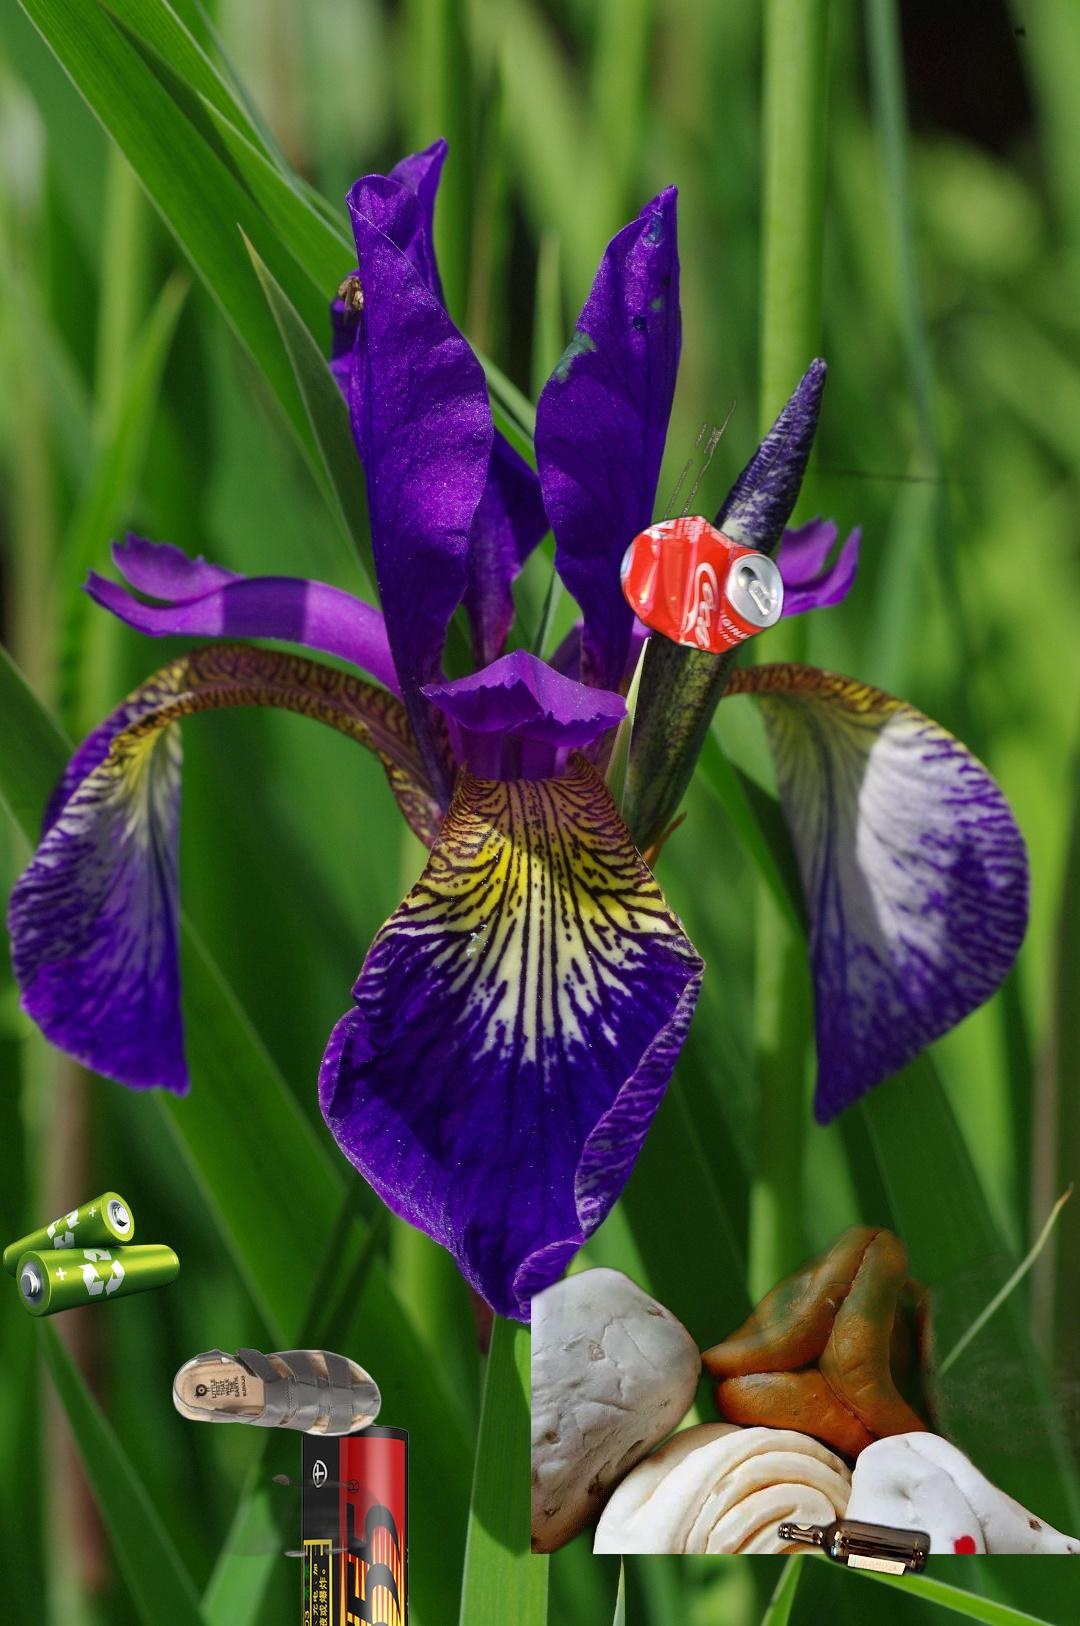battery: (297, 1411, 769, 1626), (0, 1188, 183, 1320)
biological: (532, 1223, 1080, 1554)
glass: (773, 1513, 935, 1584)
metal-cans: (518, 298, 1031, 981)
paper: (638, 393, 741, 612)
shoes: (165, 1345, 391, 1565)
